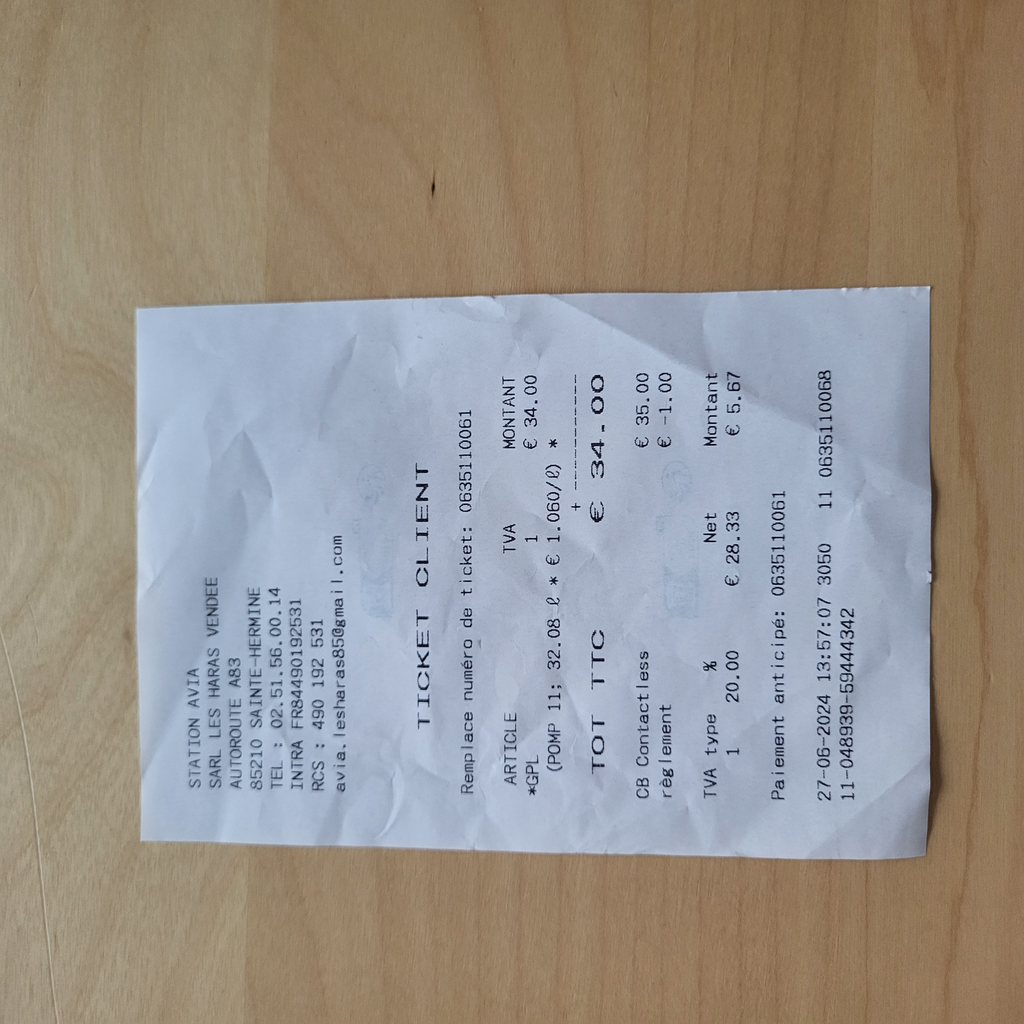recipt: (132, 287, 932, 858)
